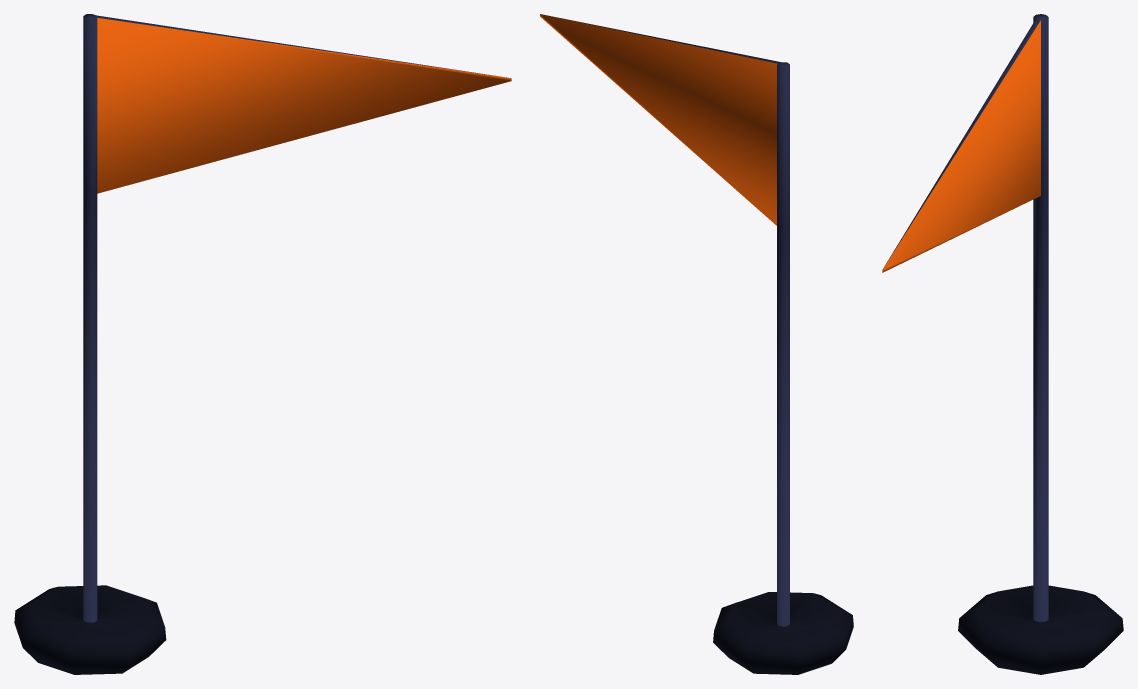
The model's file is Goal.fbx.
3 views of the same model, side by side, from view 1: azimuth 30°, elevation 25°; view 2: azimuth 150°, elevation 25°; view 3: azimuth 270°, elevation 25° (orthographic). The views are drawn at different scales.
Visible parts, largest first — view 1: Cube; view 2: Cube; view 3: Cube.
Part boxes in pixels (x1=…): Cube: x1=14, y1=14, x2=511, y2=674; Cube: x1=540, y1=14, x2=853, y2=674; Cube: x1=882, y1=14, x2=1123, y2=674.
Size of the model in its own units: 854 by 1261 by 437.
